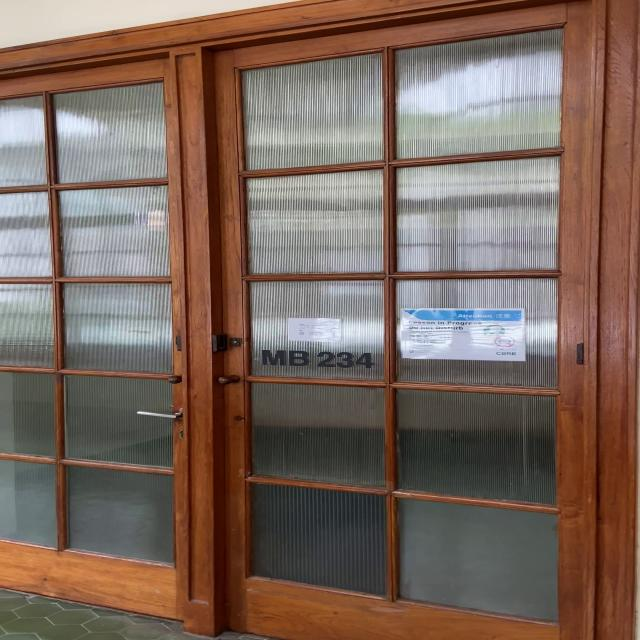room234Window: (256, 343, 381, 374)
